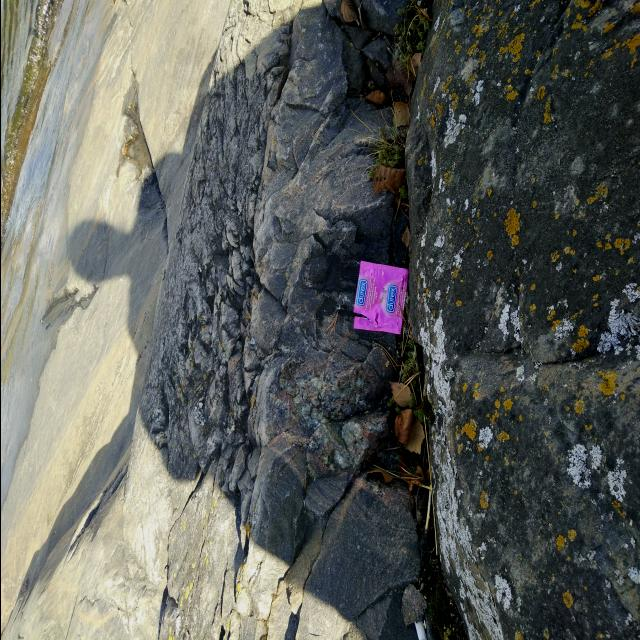Other plastic: (352, 261, 408, 334)
